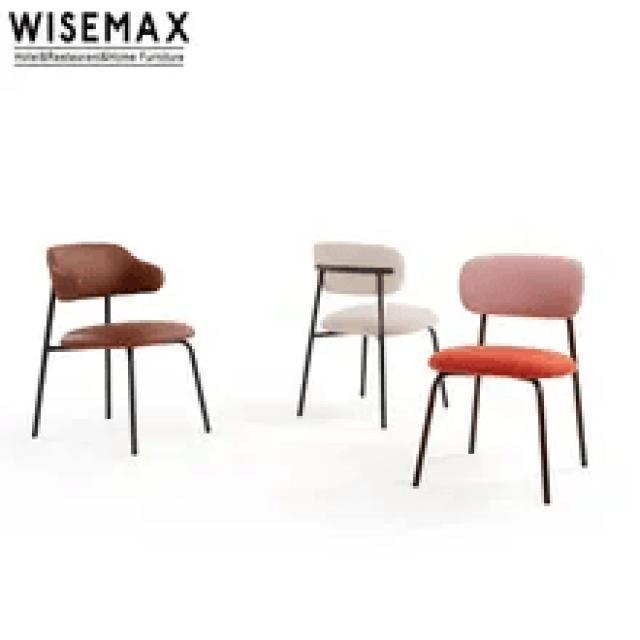chair: (409, 248, 597, 508), (26, 237, 218, 458), (295, 233, 455, 431), (418, 245, 600, 396), (303, 225, 448, 363), (30, 242, 202, 358)
